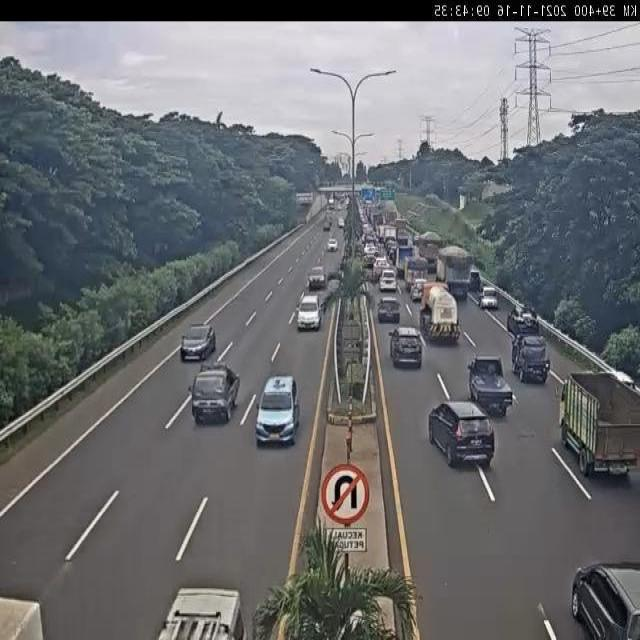Car: (572, 561, 639, 638), (429, 401, 496, 469), (157, 587, 244, 638), (254, 372, 298, 447), (468, 354, 513, 418), (192, 365, 240, 424), (514, 337, 550, 384), (180, 324, 215, 362), (390, 327, 422, 368), (296, 296, 322, 330), (377, 296, 401, 322), (479, 284, 498, 312), (379, 273, 397, 293), (308, 269, 324, 290), (413, 278, 428, 300), (328, 238, 338, 251)
Truck: (557, 373, 640, 479), (421, 281, 459, 342), (437, 246, 471, 301)
